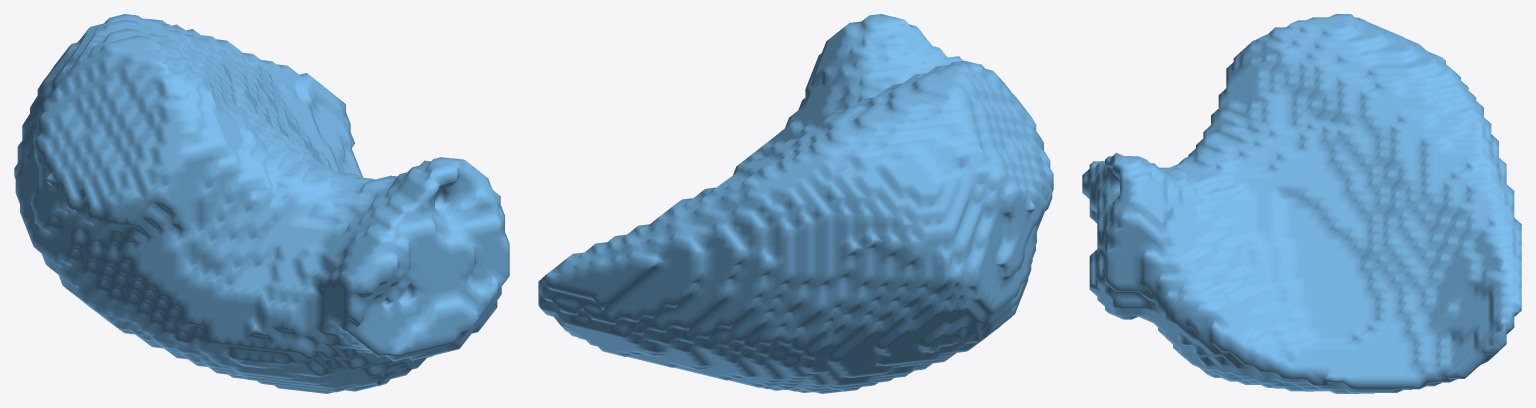
3 renders of one model, left to right at view 1: azimuth 30°, elevation 25°; view 2: azimuth 150°, elevation 25°; view 3: azimuth 270°, elevation 25°, orthographic. The views are drawn at different scales.
Visible parts, largest first — view 1: structure; view 2: structure; view 3: structure.
Part boxes in pixels (left/top/right/bottom): structure: left=14, top=14, right=509, bottom=393; structure: left=538, top=14, right=1053, bottom=393; structure: left=1082, top=14, right=1521, bottom=393.
Size of the model in its own units: 83.2 by 67.2 by 92.8.
